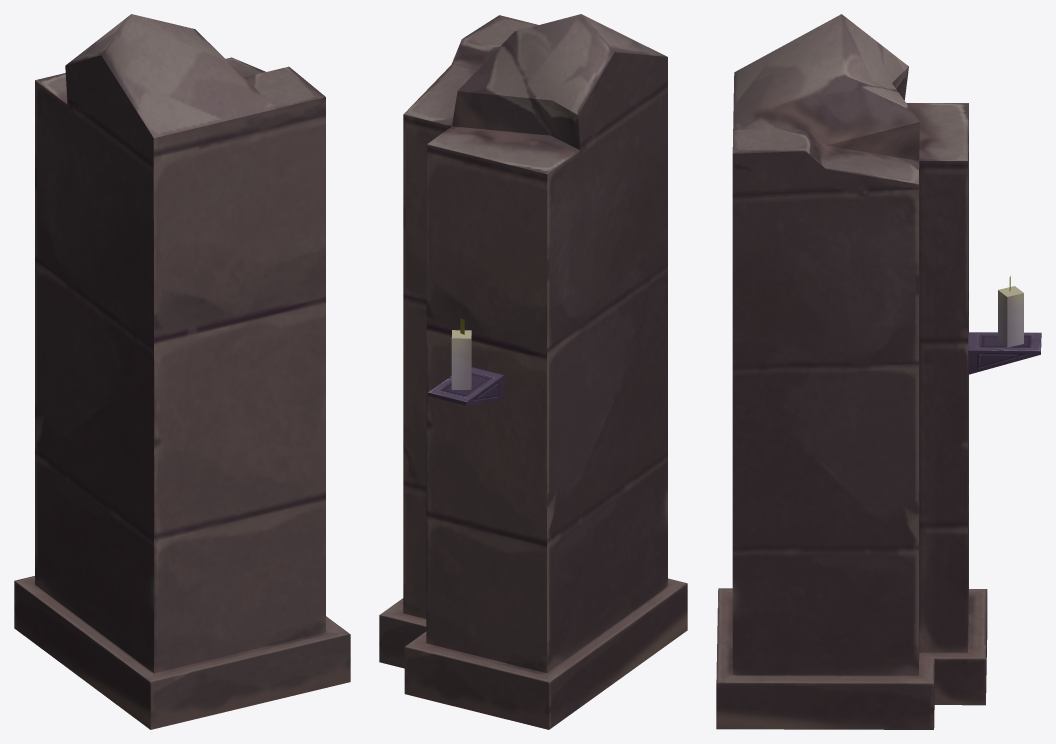
The model's file is jainzhufeiliao_04.FBX.
The picture shows the model from 3 angles, left to right: view 1: azimuth 30°, elevation 25°; view 2: azimuth 150°, elevation 25°; view 3: azimuth 270°, elevation 25°; orthographic projection. The views are drawn at different scales.
Parts seen in each view (by area): view 1: 对象004; view 2: 对象004; view 3: 对象004.
Boxes of the visible parts, x1,y1,x2,y2 form: 对象004: [14, 14, 350, 729]; 对象004: [379, 14, 687, 729]; 对象004: [716, 14, 1041, 729].
Size of the model in its own units: 238 by 748 by 343.
